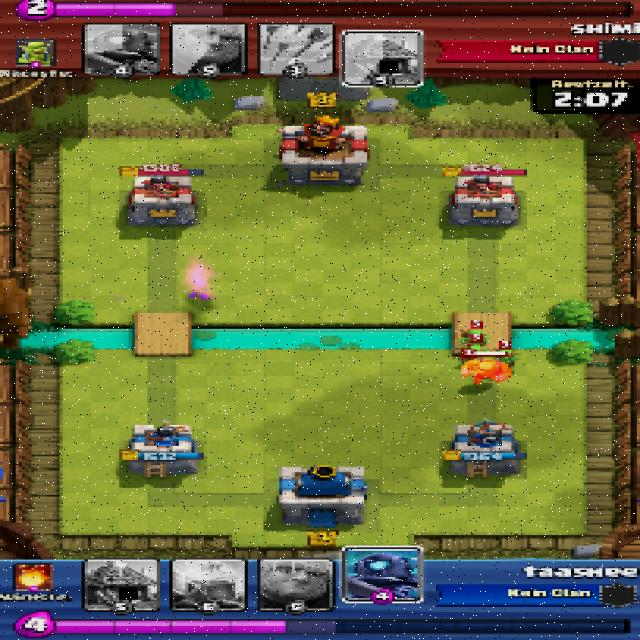Enemy-SpearGoblin: (459, 328, 488, 348), (459, 343, 485, 356), (495, 348, 515, 358)
Player-GoblinCage: (454, 358, 511, 384)
